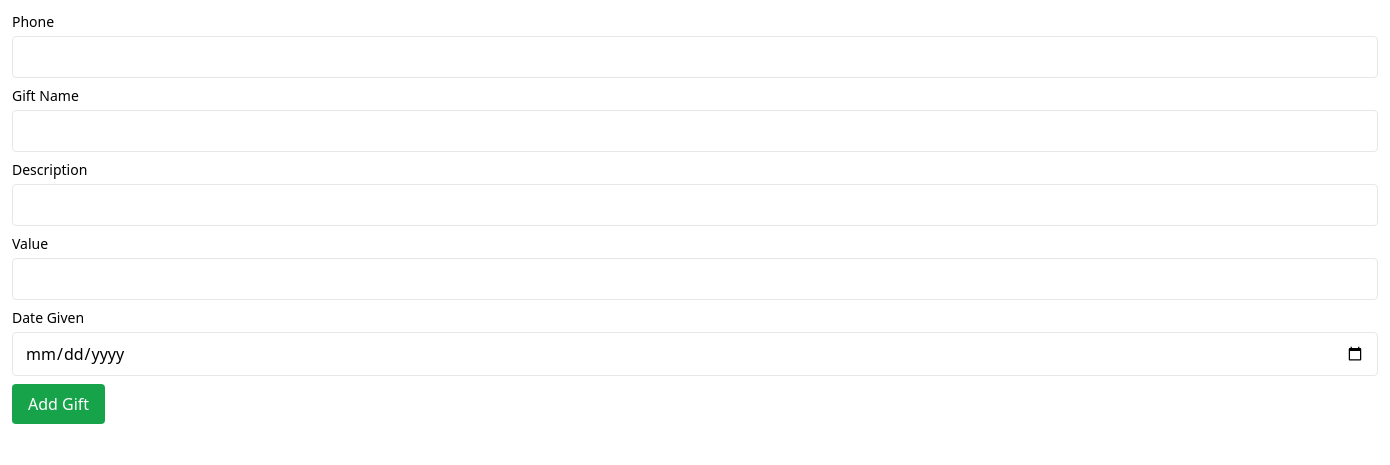
Gift donor phone suggestions › ignores an older response after the phone changes
Type "987" into the field with id "gift-phone".
click(695, 57); type("987")  # box [12,36,1378,78]
Wait 300 ms
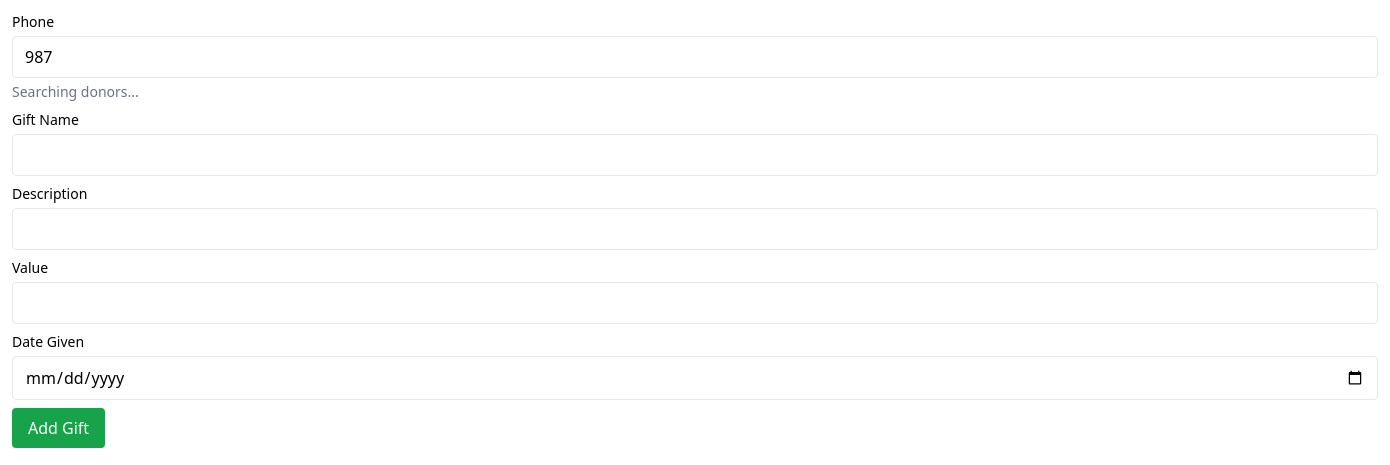
Replace the text in the field with id "gift-phone" with "123" at (695, 57), box [12,36,1378,78]
Wait 300 ms
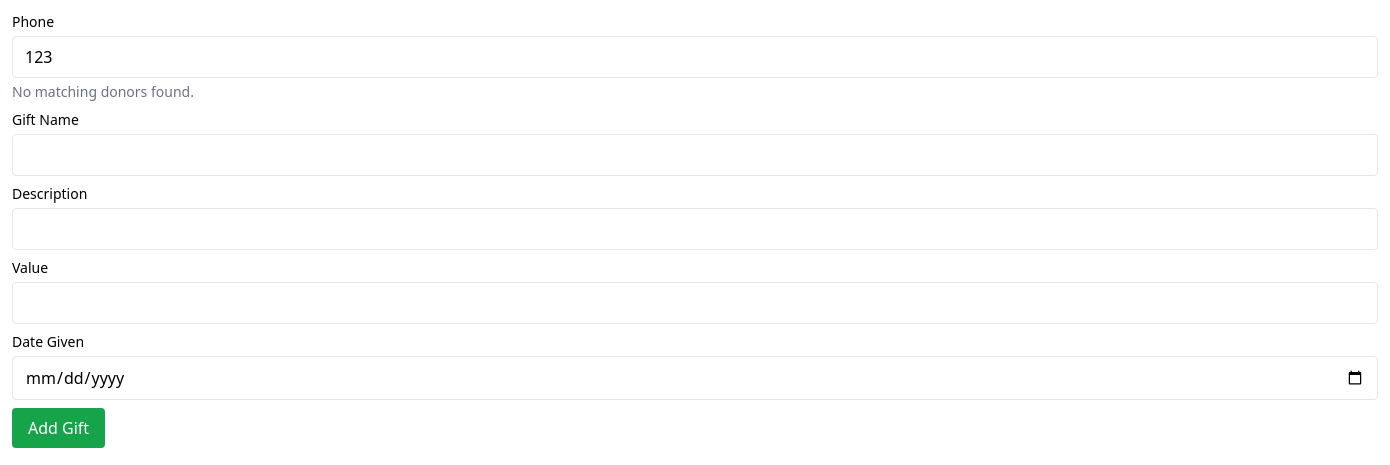
Now the text "No matching donors found." is shown, box [12,82,194,101]
